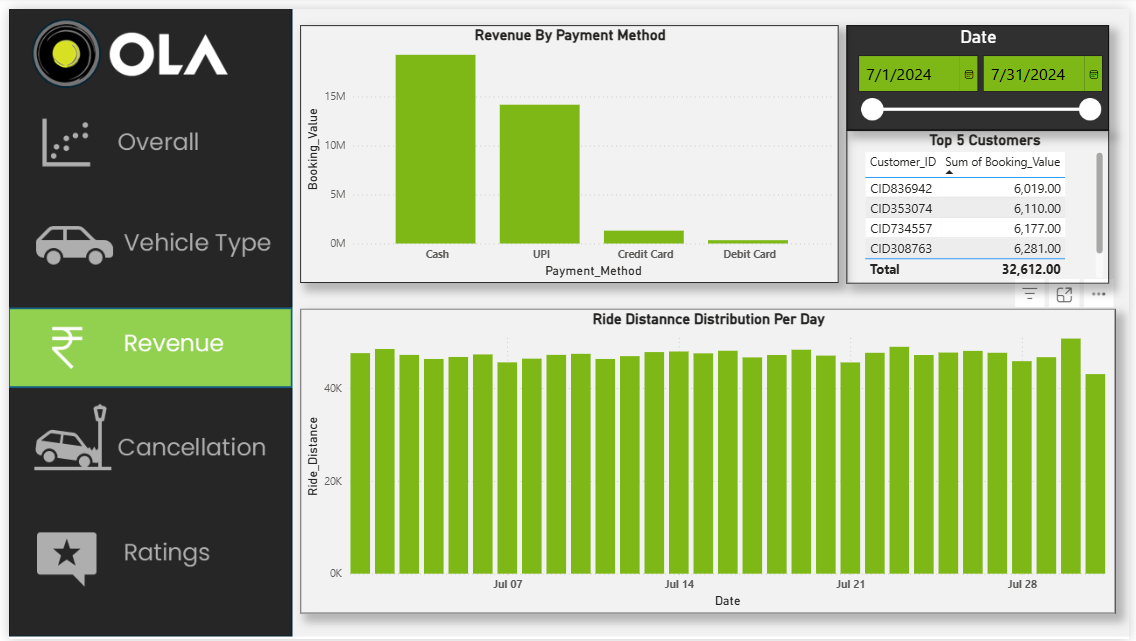

The page's visual inventory and layout, read from the dashboard file:
{"tool":"powerbi","page":{"name":"Revenue","canvas":[1280,720],"ordinal":2},"visuals":[{"type":"actionButton","box":[0,108.1,322.8,116.6],"z":0},{"type":"actionButton","box":[0,224.7,322.8,116.6],"z":1000},{"type":"actionButton","box":[0,438,322.8,116.6],"z":2000},{"type":"actionButton","box":[0,554.7,322.8,153.6],"z":3000},{"type":"columnChart","title":"Revenue By Payment Method","fields":{"Y":["Sum(Bookings (2).Booking_Value)"],"Category":["Bookings (2).Payment_Method"]},"box":[332.2,18.8,615.3,294.7],"z":4000},{"type":"columnChart","title":"Ride Distannce Distribution Per Day","fields":{"Category":["Bookings (2).Date"],"Y":["Sum(Bookings (2).Ride_Distance)"]},"box":[332.3,343.1,932.3,347.7],"z":5000},{"type":"slicer","title":"Date","fields":{"Values":["Bookings (2).Date"]},"box":[956.9,18.5,300,120],"z":6000},{"type":"tableEx","title":"Top 5 Customers","fields":{"Values":["Bookings (2).Customer_ID","Sum(Bookings (2).Booking_Value)"]},"box":[956.9,138.5,300,175.4],"z":7000}]}

Visuals, with their boxes in screenshot pixels (x1, y1, x2, y2), scaled from the page's 1280x720 canvas onto the 1136x641 screenshot:
actionButton: select_region(0, 96, 286, 200)
actionButton: select_region(0, 200, 286, 304)
actionButton: select_region(0, 390, 286, 494)
actionButton: select_region(0, 494, 286, 631)
"Revenue By Payment Method" columnChart: select_region(295, 17, 841, 279)
"Ride Distannce Distribution Per Day" columnChart: select_region(295, 305, 1122, 615)
"Date" slicer: select_region(849, 16, 1115, 123)
"Top 5 Customers" tableEx: select_region(849, 123, 1115, 279)
